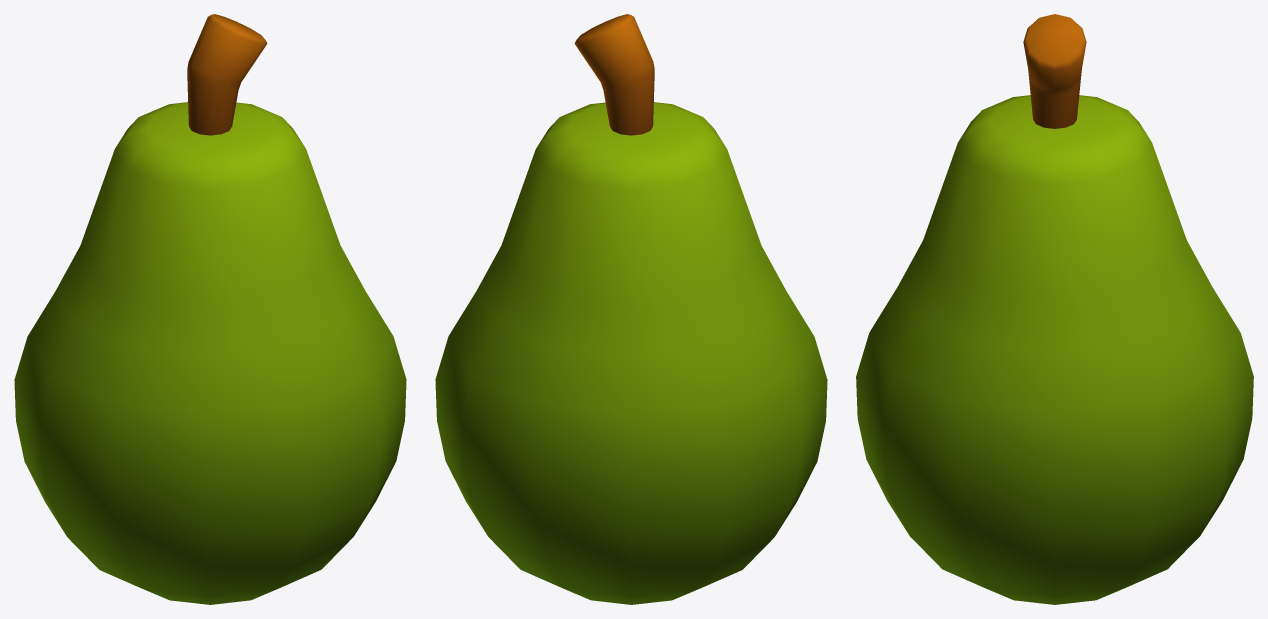
The model's file is Collectable_Avocado_01.fbx.
3 renders of one model, left to right at view 1: azimuth 30°, elevation 25°; view 2: azimuth 150°, elevation 25°; view 3: azimuth 270°, elevation 25°, orthographic.
Parts seen in each view (by area): view 1: Collectable_Avocado_01; view 2: Collectable_Avocado_01; view 3: Collectable_Avocado_01.
Part boxes in pixels (bbox=[...]): Collectable_Avocado_01: bbox=[14, 14, 406, 604]; Collectable_Avocado_01: bbox=[435, 14, 827, 604]; Collectable_Avocado_01: bbox=[856, 14, 1253, 604].
Bounding box in the file's own units: 30.23 × 47.99 × 30.23.
1 material, 1 textured.
